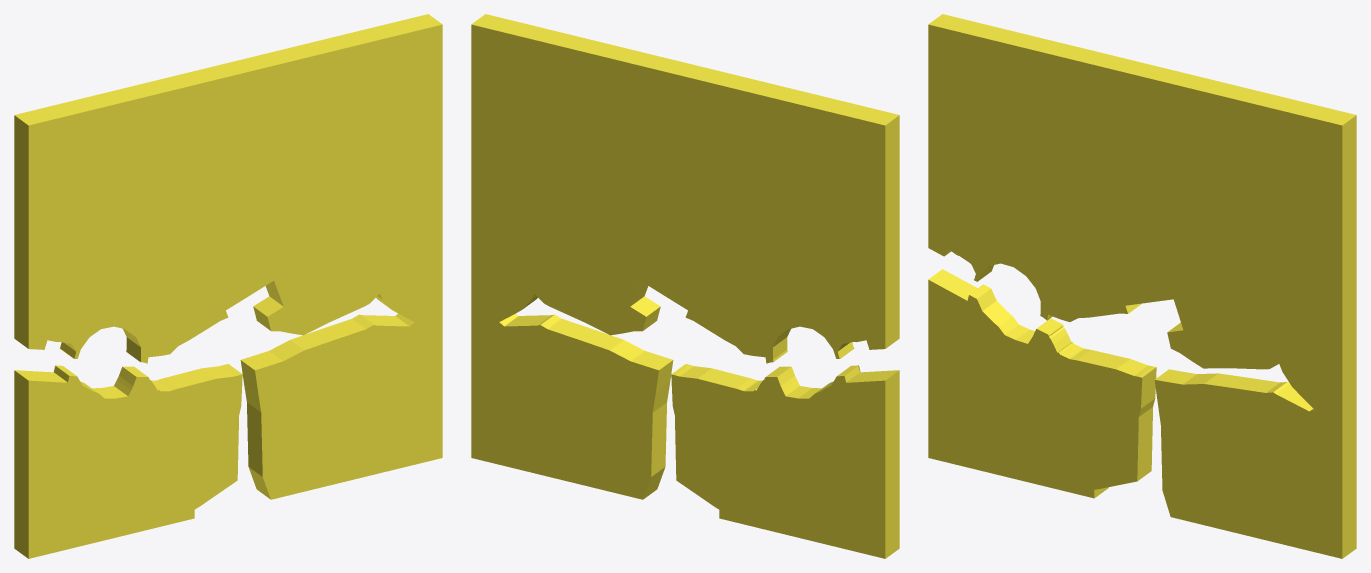
File: PoseDWall.obj
3 renders of one model, left to right at view 1: azimuth 30°, elevation 25°; view 2: azimuth 150°, elevation 25°; view 3: azimuth 330°, elevation 25°, orthographic.
Visible parts, largest first — view 1: PoseDWall; view 2: PoseDWall; view 3: PoseDWall.
Part boxes in pixels (x1,y1,x2,y2): PoseDWall: (14, 14, 442, 558); PoseDWall: (471, 14, 899, 558); PoseDWall: (928, 14, 1356, 558).
Size of the model in its own units: 2.5 by 2.5 by 0.15.
1 material, 1 textured.
